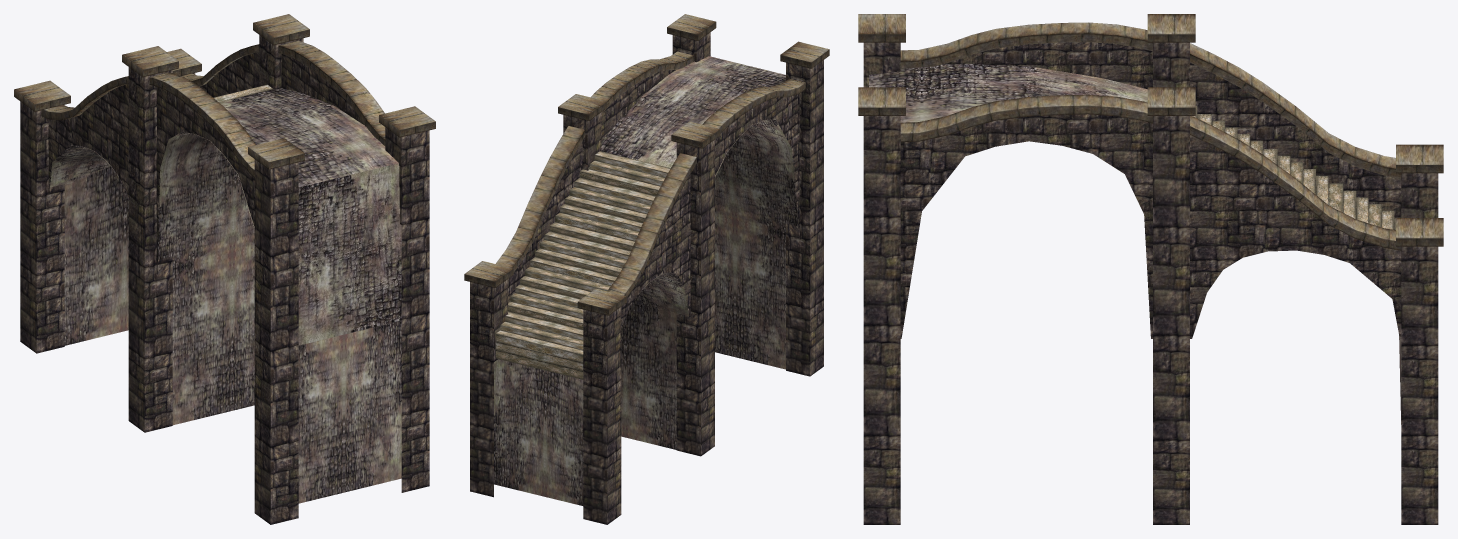
Rendered from pir_m_prp_str_bridge_stairs.fbx.
The picture shows the model from 3 angles, left to right: view 1: azimuth 30°, elevation 25°; view 2: azimuth 150°, elevation 25°; view 3: azimuth 270°, elevation 25°; orthographic projection. The views are drawn at different scales.
Visible parts, largest first — view 1: underside, floor, pillar_bridge_left, pillar_center_left, pillar_bridge_right, piller_stair_left, wall_outer_left, rail_left, rail_right, wall_inner_right, pillar_center_right, pillar_stair_right; view 2: underside, stairs, pillar_bridge_left, pillar_center_left, piller_stair_left, floor, pillar_stair_right, wall_outer_left, rail_right, rail_left, wall_inner_right, pillar_center_right (+1 smaller); view 3: wall_outer_right, pillar_bridge_right, pillar_center_right, wall_inner_left, pillar_stair_right, rail_right, rail_left, floor, stairs, piller_stair_left, pillar_center_left, pillar_bridge_left.
Boxes of the visible parts, left/top/right/bottom form: underside: left=48, top=132, right=401, bottom=503; floor: left=219, top=88, right=401, bottom=345; pillar_bridge_left: left=248, top=138, right=304, bottom=524; pillar_center_left: left=122, top=46, right=178, bottom=432; pillar_bridge_right: left=379, top=106, right=435, bottom=492; piller_stair_left: left=14, top=80, right=70, bottom=353; wall_outer_left: left=48, top=84, right=254, bottom=273; rail_left: left=41, top=72, right=255, bottom=177; rail_right: left=181, top=41, right=385, bottom=145; wall_inner_right: left=199, top=52, right=365, bottom=126; pillar_center_right: left=253, top=14, right=309, bottom=89; pillar_stair_right: left=167, top=48, right=201, bottom=75; underside: left=494, top=119, right=799, bottom=505; stairs: left=495, top=151, right=670, bottom=379; pillar_bridge_left: left=780, top=41, right=829, bottom=376; pillar_center_left: left=671, top=121, right=720, bottom=456; piller_stair_left: left=577, top=288, right=626, bottom=524; floor: left=600, top=56, right=785, bottom=168; pillar_stair_right: left=464, top=261, right=513, bottom=497; wall_outer_left: left=621, top=94, right=799, bottom=326; rail_right: left=496, top=51, right=694, bottom=278; rail_left: left=607, top=78, right=805, bottom=297; wall_inner_right: left=508, top=70, right=675, bottom=302; pillar_center_right: left=558, top=94, right=607, bottom=170; wall_outer_right: left=900, top=114, right=1401, bottom=338; pillar_bridge_right: left=858, top=87, right=905, bottom=524; pillar_center_right: left=1147, top=87, right=1195, bottom=524; wall_inner_left: left=942, top=42, right=1401, bottom=218; pillar_stair_right: left=1396, top=218, right=1443, bottom=524; rail_right: left=900, top=94, right=1401, bottom=250; rail_left: left=900, top=22, right=1401, bottom=178; floor: left=868, top=63, right=1147, bottom=122; stairs: left=1192, top=105, right=1395, bottom=229; piller_stair_left: left=1396, top=144, right=1443, bottom=217; pillar_center_left: left=1147, top=14, right=1195, bottom=87; pillar_bridge_left: left=858, top=14, right=905, bottom=87.
Bounding box in the file's own units: 3063 × 6407 × 8101.
3 materials, 3 textured.
